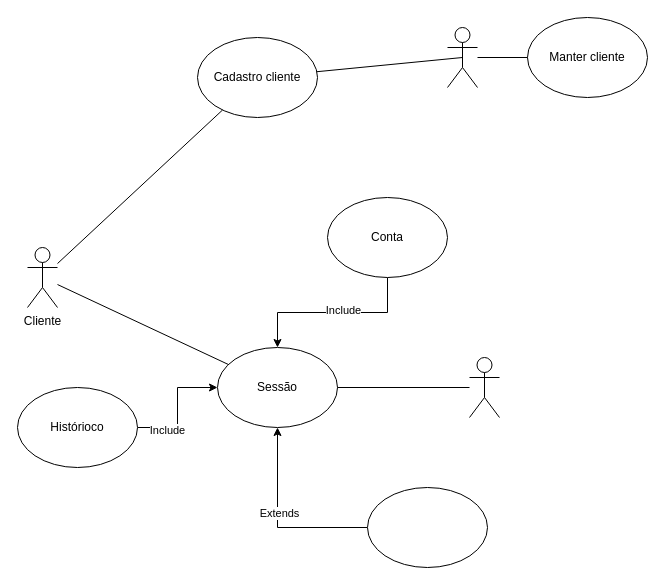
Image size: 665x585. Some labels were removed from this diagram. Here are the shapes that lost their labels. From the top down, the centre of each, then its label:
point 462,57: Funcionario
point 484,387: Veterinário
point 427,527: Pedidos
